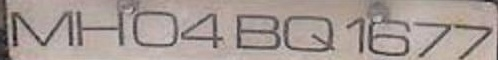character: (8, 7, 74, 48), (282, 12, 337, 53), (74, 6, 124, 49), (234, 10, 282, 50), (130, 9, 178, 48), (179, 11, 225, 49), (367, 17, 410, 57), (453, 20, 495, 60), (411, 20, 452, 58), (344, 15, 367, 54)
